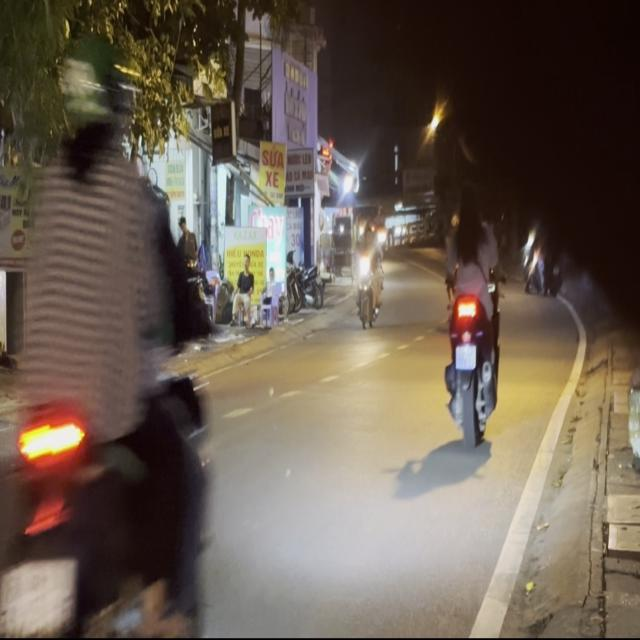helmet: (56, 55, 117, 170)
licenseplate: (0, 45, 226, 632), (438, 170, 505, 444)
motorcyclist: (456, 177, 482, 233)
nohelmet: (1, 559, 75, 633), (454, 344, 476, 369)
